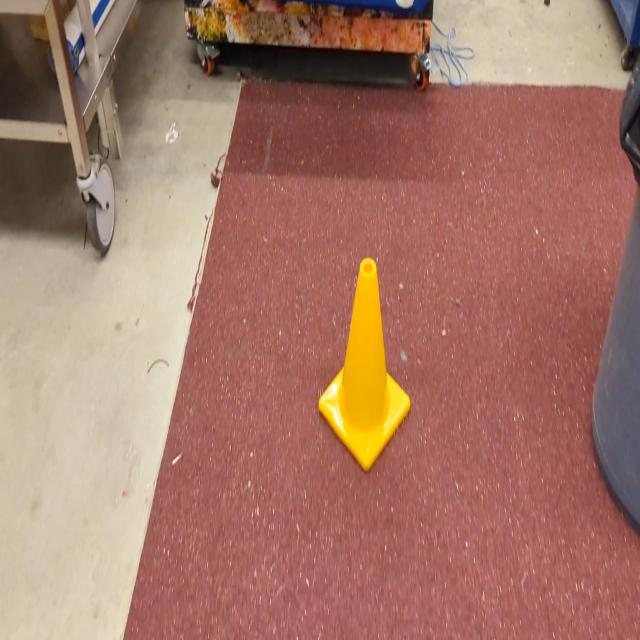frc_cone: (318, 256, 412, 472)
